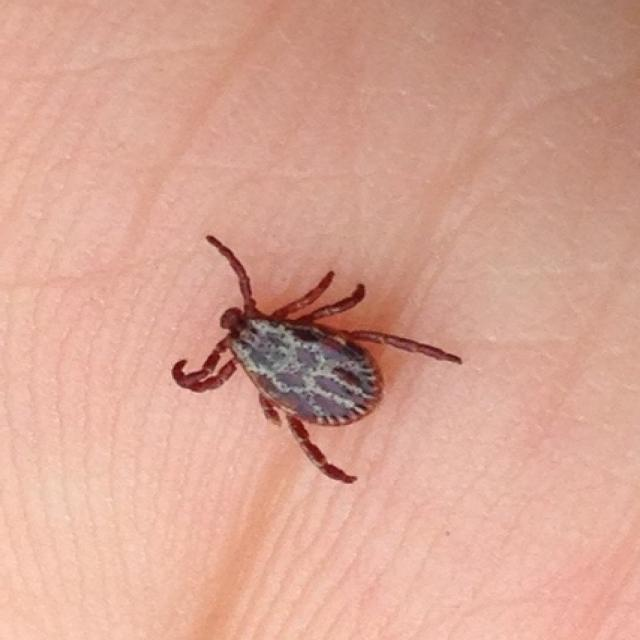Dermacentor Reticulatus-M: (174, 234, 460, 480)
